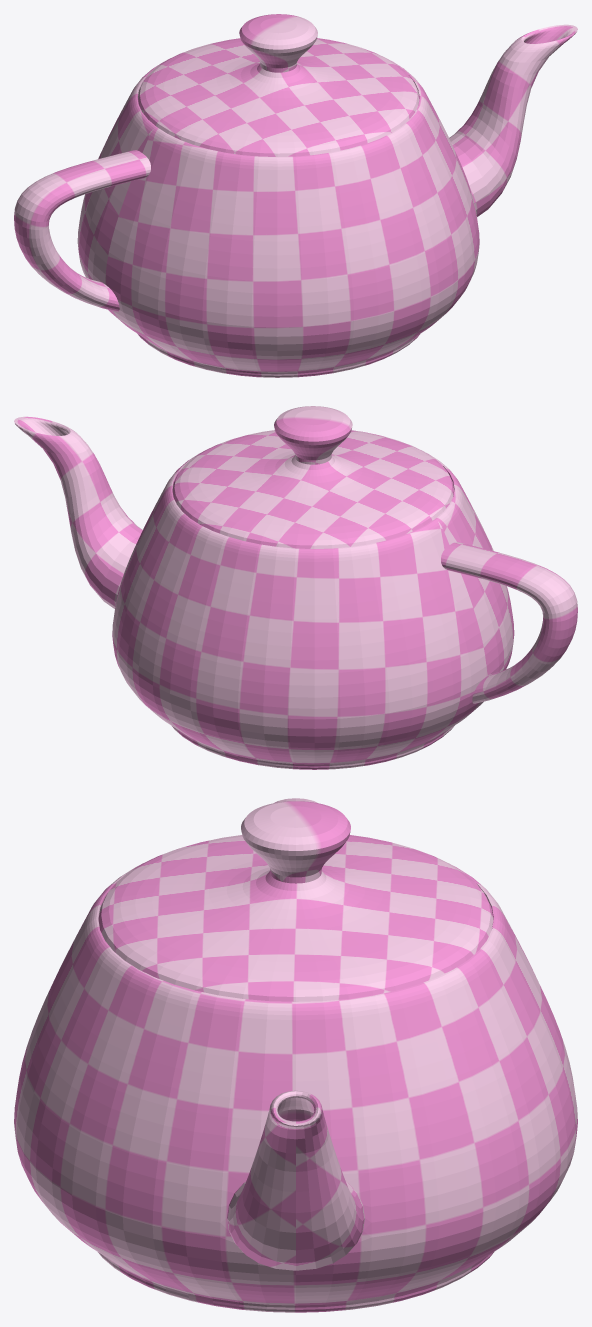
The model's file is teapot.obj.
3 views of the same model, one above another, from view 1: azimuth 30°, elevation 25°; view 2: azimuth 150°, elevation 25°; view 3: azimuth 270°, elevation 25° (orthographic). The views are drawn at different scales.
Parts seen in each view (by area): view 1: Base, Top; view 2: Base, Top; view 3: Base, Top.
Boxes of the visible parts, <box> form: Base: <box>14,24,577,377</box>; Top: <box>138,14,419,156</box>; Base: <box>14,416,577,769</box>; Top: <box>172,406,453,548</box>; Base: <box>14,798,577,1312</box>; Top: <box>98,801,493,1001</box>.
Bounding box in the file's own units: 15.42 × 7.9 × 9.59.
Materials: 2 (2 with a texture image).
